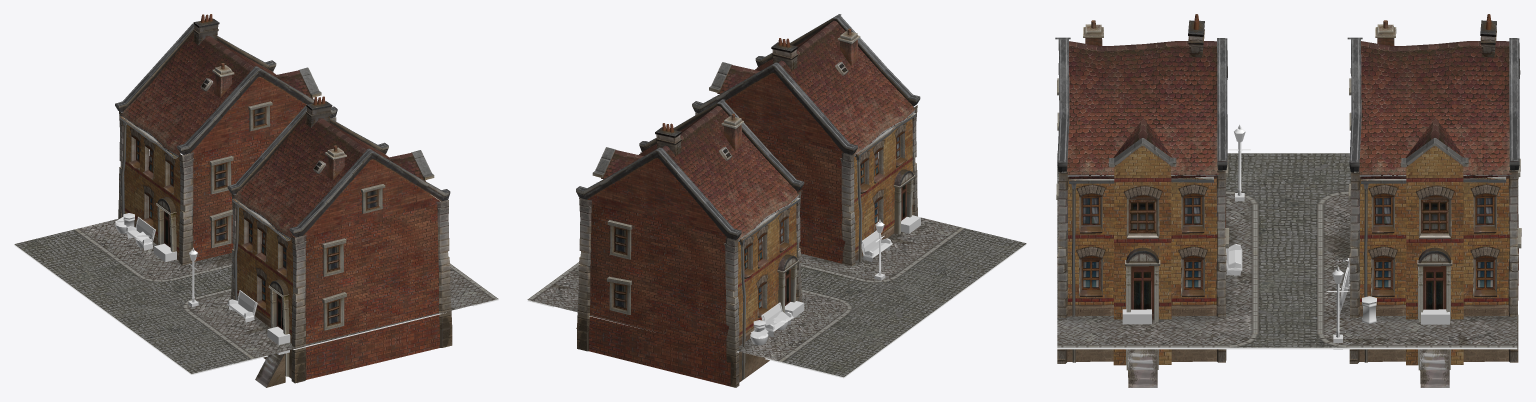
File: worker_scraper_gap.gltf
3 views of the same model, side by side, from view 1: azimuth 30°, elevation 25°; view 2: azimuth 150°, elevation 25°; view 3: azimuth 270°, elevation 25° (orthographic). The views are drawn at different scales.
Visible parts, largest first — view 1: left, right, ground, prop_bench1, prop_bench2, FeedbackBlocker.001; view 2: right, left, ground, prop_bench1, prop_bench2, FeedbackBlocker.001; view 3: left, right, ground, FeedbackBlocker, prop_bench3, fc_feedback_door_1, fc_feedback_door_2.
Part boxes in pixels (x1,y1,x2,y2): left: [227, 96, 452, 387]; right: [115, 14, 337, 265]; ground: [14, 218, 498, 373]; prop_bench1: [226, 290, 257, 322]; prop_bench2: [125, 216, 155, 250]; FeedbackBlocker.001: [14, 245, 267, 374]; right: [576, 99, 804, 387]; left: [692, 14, 920, 266]; ground: [527, 217, 1026, 377]; prop_bench1: [861, 230, 892, 261]; prop_bench2: [761, 302, 793, 337]; FeedbackBlocker.001: [765, 244, 1026, 378]; left: [1055, 14, 1229, 387]; right: [1347, 14, 1521, 387]; ground: [1057, 153, 1517, 347]; FeedbackBlocker: [1057, 347, 1517, 349]; prop_bench3: [1226, 244, 1242, 275]; fc_feedback_door_1: [1122, 309, 1151, 324]; fc_feedback_door_2: [1421, 309, 1449, 324].
Size of what is drawn, in the model's own units: 3 by 2.2 by 3.04.
4 materials, 3 textured.
